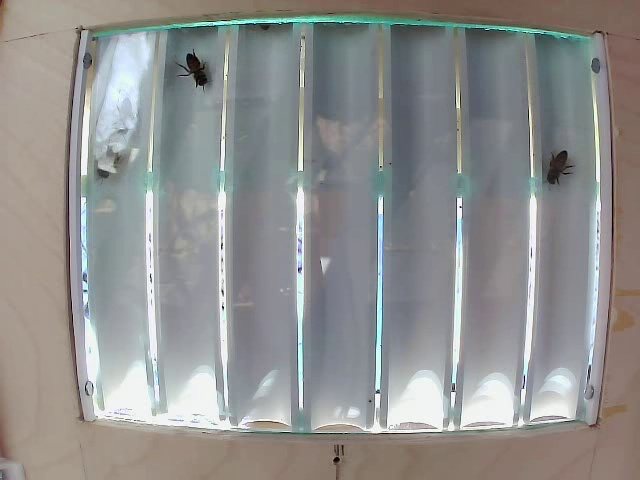bee: (534, 140, 575, 190), (174, 53, 213, 90)
